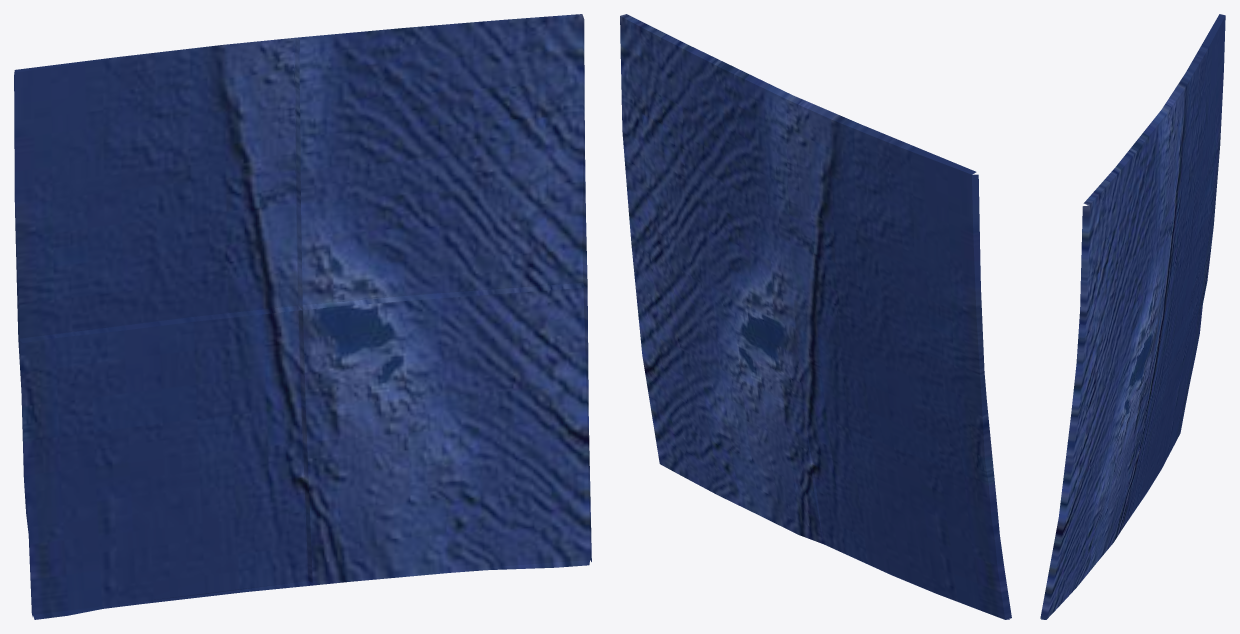
3 renders of one model, left to right at view 1: azimuth 30°, elevation 25°; view 2: azimuth 150°, elevation 25°; view 3: azimuth 270°, elevation 25°, orthographic. The views are drawn at different scales.
Bounding box in the file's own units: 1236768 × 1251692 × 494511.
1 material, 1 textured.
